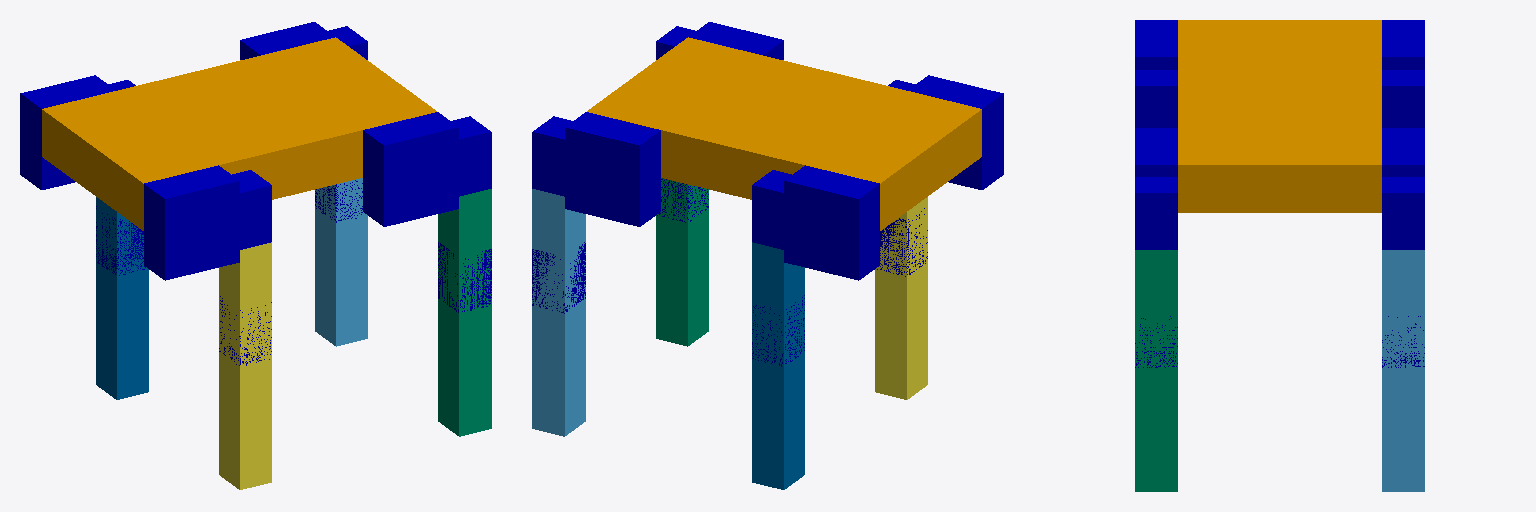
URDF robot description (ker):
<?xml version="1.0" ?>
<!-- =================================================================================== -->
<!-- |    This document was autogenerated by xacro from ker2.urdf.xacro                | -->
<!-- |    EDITING THIS FILE BY HAND IS NOT RECOMMENDED                                 | -->
<!-- =================================================================================== -->
<robot name="ker" xmlns:xacro="http://www.ros.org/wiki/xacro">
  <!--TRANSMISSION-->
  <!--DEFAULT INERTIAL PARAMETERS-->
  <!--JOINT OPTION PRESETS-->
  <!--MOTOR (CORONA)-->
  <!--MOTOR (DYNAMIXEL)-->
  <!--HUMERUS-->
  <!--FEMUR-->
  <!--RADIUS-->
  <!--TIBULA-->
  <!--BODY-->
  <link name="body">
    <inertial>
      <mass value="10"/>
      <inertia ixx="1.0" ixy="0.0" ixz="0.0" iyy="1.0" iyz="0.0" izz="1.0"/>
    </inertial>
    <collision>
      <origin rpy="0 0 0" xyz="0 0 0.0"/>
      <geometry>
        <box size="0.2 0.12 0.031"/>
      </geometry>
    </collision>
    <visual>
      <origin rpy="0 0 0" xyz="0 0 0.0"/>
      <geometry>
        <box size="0.2 0.12 0.031"/>
      </geometry>
    </visual>
  </link>
  <!--EXECUTE MACROS-->
  <link name="big_motor_1">
    <inertial>
      <mass value="0.5"/>
      <inertia ixx="1.0" ixy="0.0" ixz="0.0" iyy="1.0" iyz="0.0" izz="1.0"/>
    </inertial>
    <visual>
      <geometry>
        <box size="0.051 0.025 0.053"/>
      </geometry>
      <origin rpy="0 0 0" xyz="0 0 0"/>
      <material name="blue">
        <color rgba="0 0 .8 1"/>
      </material>
    </visual>
    <collision>
      <geometry>
        <box size="0.051 0.025 0.053"/>
      </geometry>
      <origin rpy="0 0 0" xyz="0 0 0"/>
    </collision>
  </link>
  <joint name="big_motor_1_joint" type="fixed">
    <parent link="body"/>
    <child link="big_motor_1"/>
    <origin rpy="0 0 0" xyz="0.0745 0.0725 -0.011"/>
  </joint>
  <link name="big_motor_2">
    <inertial>
      <mass value="0.5"/>
      <inertia ixx="1.0" ixy="0.0" ixz="0.0" iyy="1.0" iyz="0.0" izz="1.0"/>
    </inertial>
    <visual>
      <geometry>
        <box size="0.051 0.025 0.053"/>
      </geometry>
      <origin rpy="0 0 0" xyz="0 0 0"/>
      <material name="blue">
        <color rgba="0 0 .8 1"/>
      </material>
    </visual>
    <collision>
      <geometry>
        <box size="0.051 0.025 0.053"/>
      </geometry>
      <origin rpy="0 0 0" xyz="0 0 0"/>
    </collision>
  </link>
  <joint name="big_motor_2_joint" type="fixed">
    <parent link="body"/>
    <child link="big_motor_2"/>
    <origin rpy="0 0 0" xyz="0.0745 -0.0725 -0.011"/>
  </joint>
  <link name="big_motor_3">
    <inertial>
      <mass value="0.5"/>
      <inertia ixx="1.0" ixy="0.0" ixz="0.0" iyy="1.0" iyz="0.0" izz="1.0"/>
    </inertial>
    <visual>
      <geometry>
        <box size="0.051 0.025 0.053"/>
      </geometry>
      <origin rpy="0 0 0" xyz="0 0 0"/>
      <material name="blue">
        <color rgba="0 0 .8 1"/>
      </material>
    </visual>
    <collision>
      <geometry>
        <box size="0.051 0.025 0.053"/>
      </geometry>
      <origin rpy="0 0 0" xyz="0 0 0"/>
    </collision>
  </link>
  <joint name="big_motor_3_joint" type="fixed">
    <parent link="body"/>
    <child link="big_motor_3"/>
    <origin rpy="0 0 0" xyz="-0.0745 -0.0725 -0.011"/>
  </joint>
  <link name="big_motor_4">
    <inertial>
      <mass value="0.5"/>
      <inertia ixx="1.0" ixy="0.0" ixz="0.0" iyy="1.0" iyz="0.0" izz="1.0"/>
    </inertial>
    <visual>
      <geometry>
        <box size="0.051 0.025 0.053"/>
      </geometry>
      <origin rpy="0 0 0" xyz="0 0 0"/>
      <material name="blue">
        <color rgba="0 0 .8 1"/>
      </material>
    </visual>
    <collision>
      <geometry>
        <box size="0.051 0.025 0.053"/>
      </geometry>
      <origin rpy="0 0 0" xyz="0 0 0"/>
    </collision>
  </link>
  <joint name="big_motor_4_joint" type="fixed">
    <parent link="body"/>
    <child link="big_motor_4"/>
    <origin rpy="0 0 0" xyz="-0.0745 0.0725 -0.011"/>
  </joint>
  <link name="motor_1">
    <inertial>
      <mass value="0.5"/>
      <inertia ixx="1.0" ixy="0.0" ixz="0.0" iyy="1.0" iyz="0.0" izz="1.0"/>
    </inertial>
    <visual>
      <geometry>
        <box size="0.022 0.025 0.037"/>
      </geometry>
      <origin rpy="0 0 0" xyz="0 0 0"/>
      <material name="blue">
        <color rgba="0 0 .8 1"/>
      </material>
    </visual>
    <collision>
      <geometry>
        <box size="0.022 0.025 0.037"/>
      </geometry>
      <origin rpy="0 0 0" xyz="0 0 0"/>
    </collision>
  </link>
  <joint name="motor_1_joint" type="revolute">
    <parent link="big_motor_1"/>
    <child link="motor_1"/>
    <origin rpy="0 0 0" xyz="0.0365 0 0"/>
    <axis xyz="1 0 0"/>
    <dynamics damping="0.1" friction="0.1"/>
    <limit effort="3.0" lower="0.0" upper="0.0" velocity="3.0"/>
  </joint>
  <transmission name="motor_1_joint_transmission">
    <type>transmission_interface/SimpleTransmission</type>
    <joint name="motor_1_joint">
      <hardwareInterface>VelocityJointInterface</hardwareInterface>
    </joint>
    <actuator name="motor_1_joint_motor">
      <mechanicalReduction>1</mechanicalReduction>
    </actuator>
  </transmission>
  <link name="motor_2">
    <inertial>
      <mass value="0.5"/>
      <inertia ixx="1.0" ixy="0.0" ixz="0.0" iyy="1.0" iyz="0.0" izz="1.0"/>
    </inertial>
    <visual>
      <geometry>
        <box size="0.022 0.025 0.037"/>
      </geometry>
      <origin rpy="0 0 0" xyz="0 0 0"/>
      <material name="blue">
        <color rgba="0 0 .8 1"/>
      </material>
    </visual>
    <collision>
      <geometry>
        <box size="0.022 0.025 0.037"/>
      </geometry>
      <origin rpy="0 0 0" xyz="0 0 0"/>
    </collision>
  </link>
  <joint name="motor_2_joint" type="revolute">
    <parent link="big_motor_2"/>
    <child link="motor_2"/>
    <origin rpy="0 0 0" xyz="0.0365 0 0"/>
    <axis xyz="1 0 0"/>
    <dynamics damping="0.1" friction="0.1"/>
    <limit effort="3.0" lower="0.0" upper="0.0" velocity="3.0"/>
  </joint>
  <transmission name="motor_2_joint_transmission">
    <type>transmission_interface/SimpleTransmission</type>
    <joint name="motor_2_joint">
      <hardwareInterface>VelocityJointInterface</hardwareInterface>
    </joint>
    <actuator name="motor_2_joint_motor">
      <mechanicalReduction>1</mechanicalReduction>
    </actuator>
  </transmission>
  <link name="motor_3">
    <inertial>
      <mass value="0.5"/>
      <inertia ixx="1.0" ixy="0.0" ixz="0.0" iyy="1.0" iyz="0.0" izz="1.0"/>
    </inertial>
    <visual>
      <geometry>
        <box size="0.022 0.025 0.037"/>
      </geometry>
      <origin rpy="0 0 0" xyz="0 0 0"/>
      <material name="blue">
        <color rgba="0 0 .8 1"/>
      </material>
    </visual>
    <collision>
      <geometry>
        <box size="0.022 0.025 0.037"/>
      </geometry>
      <origin rpy="0 0 0" xyz="0 0 0"/>
    </collision>
  </link>
  <joint name="motor_3_joint" type="revolute">
    <parent link="big_motor_3"/>
    <child link="motor_3"/>
    <origin rpy="0 0 0" xyz="0.0365 0 0"/>
    <axis xyz="1 0 0"/>
    <dynamics damping="0.1" friction="0.1"/>
    <limit effort="3.0" lower="0.0" upper="0.0" velocity="3.0"/>
  </joint>
  <transmission name="motor_3_joint_transmission">
    <type>transmission_interface/SimpleTransmission</type>
    <joint name="motor_3_joint">
      <hardwareInterface>VelocityJointInterface</hardwareInterface>
    </joint>
    <actuator name="motor_3_joint_motor">
      <mechanicalReduction>1</mechanicalReduction>
    </actuator>
  </transmission>
  <link name="motor_4">
    <inertial>
      <mass value="0.5"/>
      <inertia ixx="1.0" ixy="0.0" ixz="0.0" iyy="1.0" iyz="0.0" izz="1.0"/>
    </inertial>
    <visual>
      <geometry>
        <box size="0.022 0.025 0.037"/>
      </geometry>
      <origin rpy="0 0 0" xyz="0 0 0"/>
      <material name="blue">
        <color rgba="0 0 .8 1"/>
      </material>
    </visual>
    <collision>
      <geometry>
        <box size="0.022 0.025 0.037"/>
      </geometry>
      <origin rpy="0 0 0" xyz="0 0 0"/>
    </collision>
  </link>
  <joint name="motor_4_joint" type="revolute">
    <parent link="big_motor_4"/>
    <child link="motor_4"/>
    <origin rpy="0 0 0" xyz="0.0365 0 0"/>
    <axis xyz="1 0 0"/>
    <dynamics damping="0.1" friction="0.1"/>
    <limit effort="3.0" lower="0.0" upper="0.0" velocity="3.0"/>
  </joint>
  <transmission name="motor_4_joint_transmission">
    <type>transmission_interface/SimpleTransmission</type>
    <joint name="motor_4_joint">
      <hardwareInterface>VelocityJointInterface</hardwareInterface>
    </joint>
    <actuator name="motor_4_joint_motor">
      <mechanicalReduction>1</mechanicalReduction>
    </actuator>
  </transmission>
  <link name="humerus_1">
    <inertial>
      <mass value="2"/>
      <inertia ixx="1.0" ixy="0.0" ixz="0.0" iyy="1.0" iyz="0.0" izz="1.0"/>
    </inertial>
    <collision>
      <origin rpy="0 0 0" xyz="0 0 -0.0565"/>
      <geometry>
        <box size="0.022 0.025 0.076"/>
      </geometry>
    </collision>
    <visual>
      <origin rpy="0 0 0" xyz="0 0 -0.0565"/>
      <geometry>
        <box size="0.022 0.025 0.076"/>
      </geometry>
    </visual>
  </link>
  <joint name="humerus_1_joint" type="revolute">
    <parent link="motor_1"/>
    <child link="humerus_1"/>
    <origin rpy="0 0 0" xyz="0 0 0"/>
    <axis xyz="0 1 0"/>
    <dynamics damping="0.1" friction="0.1"/>
    <limit effort="3.0" lower="0.0" upper="0.0" velocity="3.0"/>
  </joint>
  <link name="humerus_2">
    <inertial>
      <mass value="2"/>
      <inertia ixx="1.0" ixy="0.0" ixz="0.0" iyy="1.0" iyz="0.0" izz="1.0"/>
    </inertial>
    <collision>
      <origin rpy="0 0 0" xyz="0 0 -0.0565"/>
      <geometry>
        <box size="0.022 0.025 0.076"/>
      </geometry>
    </collision>
    <visual>
      <origin rpy="0 0 0" xyz="0 0 -0.0565"/>
      <geometry>
        <box size="0.022 0.025 0.076"/>
      </geometry>
    </visual>
  </link>
  <joint name="humerus_2_joint" type="revolute">
    <parent link="motor_2"/>
    <child link="humerus_2"/>
    <origin rpy="0 0 0" xyz="0 0 0"/>
    <axis xyz="0 -1 0"/>
    <dynamics damping="0.1" friction="0.1"/>
    <limit effort="3.0" lower="0.0" upper="0.0" velocity="3.0"/>
  </joint>
  <link name="femur_2">
    <inertial>
      <mass value="2"/>
      <inertia ixx="1.0" ixy="0.0" ixz="0.0" iyy="1.0" iyz="0.0" izz="1.0"/>
    </inertial>
    <collision>
      <origin rpy="0 0 0" xyz="0 0 -0.0565"/>
      <geometry>
        <box size="0.022 0.025 0.076"/>
      </geometry>
    </collision>
    <visual>
      <origin rpy="0 0 0" xyz="0 0 -0.0565"/>
      <geometry>
        <box size="0.022 0.025 0.076"/>
      </geometry>
    </visual>
  </link>
  <joint name="femur_2_joint" type="revolute">
    <parent link="motor_3"/>
    <child link="femur_2"/>
    <origin rpy="0 0 0" xyz="0 0 0"/>
    <axis xyz="0 -1 0"/>
    <dynamics damping="0.1" friction="0.1"/>
    <limit effort="3.0" lower="0.0" upper="0.0" velocity="3.0"/>
  </joint>
  <link name="femur_1">
    <inertial>
      <mass value="2"/>
      <inertia ixx="1.0" ixy="0.0" ixz="0.0" iyy="1.0" iyz="0.0" izz="1.0"/>
    </inertial>
    <collision>
      <origin rpy="0 0 0" xyz="0 0 -0.0565"/>
      <geometry>
        <box size="0.022 0.025 0.076"/>
      </geometry>
    </collision>
    <visual>
      <origin rpy="0 0 0" xyz="0 0 -0.0565"/>
      <geometry>
        <box size="0.022 0.025 0.076"/>
      </geometry>
    </visual>
  </link>
  <joint name="femur_1_joint" type="revolute">
    <parent link="motor_4"/>
    <child link="femur_1"/>
    <origin rpy="0 0 0" xyz="0 0 0"/>
    <axis xyz="0 1 0"/>
    <dynamics damping="0.1" friction="0.1"/>
    <limit effort="3.0" lower="0.0" upper="0.0" velocity="3.0"/>
  </joint>
  <link name="motor_1b">
    <inertial>
      <mass value="0.5"/>
      <inertia ixx="1.0" ixy="0.0" ixz="0.0" iyy="1.0" iyz="0.0" izz="1.0"/>
    </inertial>
    <visual>
      <geometry>
        <box size="0.022 0.025 0.037"/>
      </geometry>
      <origin rpy="0 0 0" xyz="0 0 0"/>
      <material name="blue">
        <color rgba="0 0 .8 1"/>
      </material>
    </visual>
    <collision>
      <geometry>
        <box size="0.022 0.025 0.037"/>
      </geometry>
      <origin rpy="0 0 0" xyz="0 0 0"/>
    </collision>
  </link>
  <joint name="motor_1b_joint" type="fixed">
    <parent link="humerus_1"/>
    <child link="motor_1b"/>
    <origin rpy="0 0 0" xyz="0 0 -0.076"/>
  </joint>
  <transmission name="motor_1b_joint_transmission">
    <type>transmission_interface/SimpleTransmission</type>
    <joint name="motor_1b_joint">
      <hardwareInterface>VelocityJointInterface</hardwareInterface>
    </joint>
    <actuator name="motor_1b_joint_motor">
      <mechanicalReduction>1</mechanicalReduction>
    </actuator>
  </transmission>
  <link name="motor_2b">
    <inertial>
      <mass value="0.5"/>
      <inertia ixx="1.0" ixy="0.0" ixz="0.0" iyy="1.0" iyz="0.0" izz="1.0"/>
    </inertial>
    <visual>
      <geometry>
        <box size="0.022 0.025 0.037"/>
      </geometry>
      <origin rpy="0 0 0" xyz="0 0 0"/>
      <material name="blue">
        <color rgba="0 0 .8 1"/>
      </material>
    </visual>
    <collision>
      <geometry>
        <box size="0.022 0.025 0.037"/>
      </geometry>
      <origin rpy="0 0 0" xyz="0 0 0"/>
    </collision>
  </link>
  <joint name="motor_2b_joint" type="fixed">
    <parent link="humerus_2"/>
    <child link="motor_2b"/>
    <origin rpy="0 0 0" xyz="0 0 -0.076"/>
  </joint>
  <transmission name="motor_2b_joint_transmission">
    <type>transmission_interface/SimpleTransmission</type>
    <joint name="motor_2b_joint">
      <hardwareInterface>VelocityJointInterface</hardwareInterface>
    </joint>
    <actuator name="motor_2b_joint_motor">
      <mechanicalReduction>1</mechanicalReduction>
    </actuator>
  </transmission>
  <link name="motor_3b">
    <inertial>
      <mass value="0.5"/>
      <inertia ixx="1.0" ixy="0.0" ixz="0.0" iyy="1.0" iyz="0.0" izz="1.0"/>
    </inertial>
    <visual>
      <geometry>
        <box size="0.022 0.025 0.037"/>
      </geometry>
      <origin rpy="0 0 0" xyz="0 0 0"/>
      <material name="blue">
        <color rgba="0 0 .8 1"/>
      </material>
    </visual>
    <collision>
      <geometry>
        <box size="0.022 0.025 0.037"/>
      </geometry>
      <origin rpy="0 0 0" xyz="0 0 0"/>
    </collision>
  </link>
  <joint name="motor_3b_joint" type="fixed">
    <parent link="femur_2"/>
    <child link="motor_3b"/>
    <origin rpy="0 0 0" xyz="0 0 -0.076"/>
  </joint>
  <transmission name="motor_3b_joint_transmission">
    <type>transmission_interface/SimpleTransmission</type>
    <joint name="motor_3b_joint">
      <hardwareInterface>VelocityJointInterface</hardwareInterface>
    </joint>
    <actuator name="motor_3b_joint_motor">
      <mechanicalReduction>1</mechanicalReduction>
    </actuator>
  </transmission>
  <link name="motor_4b">
    <inertial>
      <mass value="0.5"/>
      <inertia ixx="1.0" ixy="0.0" ixz="0.0" iyy="1.0" iyz="0.0" izz="1.0"/>
    </inertial>
    <visual>
      <geometry>
        <box size="0.022 0.025 0.037"/>
      </geometry>
      <origin rpy="0 0 0" xyz="0 0 0"/>
      <material name="blue">
        <color rgba="0 0 .8 1"/>
      </material>
    </visual>
    <collision>
      <geometry>
        <box size="0.022 0.025 0.037"/>
      </geometry>
      <origin rpy="0 0 0" xyz="0 0 0"/>
    </collision>
  </link>
  <joint name="motor_4b_joint" type="fixed">
    <parent link="femur_1"/>
    <child link="motor_4b"/>
    <origin rpy="0 0 0" xyz="0 0 -0.076"/>
  </joint>
  <transmission name="motor_4b_joint_transmission">
    <type>transmission_interface/SimpleTransmission</type>
    <joint name="motor_4b_joint">
      <hardwareInterface>VelocityJointInterface</hardwareInterface>
    </joint>
    <actuator name="motor_4b_joint_motor">
      <mechanicalReduction>1</mechanicalReduction>
    </actuator>
  </transmission>
  <link name="radius_1">
    <inertial>
      <mass value="2"/>
      <inertia ixx="1.0" ixy="0.0" ixz="0.0" iyy="1.0" iyz="0.0" izz="1.0"/>
    </inertial>
    <collision>
      <origin rpy="0 0 0" xyz="0 0 -0.0565"/>
      <geometry>
        <box size="0.022 0.025 0.08"/>
      </geometry>
    </collision>
    <visual>
      <origin rpy="0 0 0" xyz="0 0 -0.0585"/>
      <geometry>
        <box size="0.022 0.025 0.08"/>
      </geometry>
    </visual>
  </link>
  <joint name="radius_1_joint" type="revolute">
    <parent link="motor_1b"/>
    <child link="radius_1"/>
    <origin rpy="0 0 0" xyz="0 0 0"/>
    <axis xyz="0 1 0"/>
    <dynamics damping="0.1" friction="0.1"/>
    <limit effort="3.0" lower="0.0" upper="0.0" velocity="3.0"/>
  </joint>
  <link name="radius_2">
    <inertial>
      <mass value="2"/>
      <inertia ixx="1.0" ixy="0.0" ixz="0.0" iyy="1.0" iyz="0.0" izz="1.0"/>
    </inertial>
    <collision>
      <origin rpy="0 0 0" xyz="0 0 -0.0565"/>
      <geometry>
        <box size="0.022 0.025 0.08"/>
      </geometry>
    </collision>
    <visual>
      <origin rpy="0 0 0" xyz="0 0 -0.0585"/>
      <geometry>
        <box size="0.022 0.025 0.08"/>
      </geometry>
    </visual>
  </link>
  <joint name="radius_2_joint" type="revolute">
    <parent link="motor_2b"/>
    <child link="radius_2"/>
    <origin rpy="0 0 0" xyz="0 0 0"/>
    <axis xyz="0 -1 0"/>
    <dynamics damping="0.1" friction="0.1"/>
    <limit effort="3.0" lower="0.0" upper="0.0" velocity="3.0"/>
  </joint>
  <link name="tibula_2">
    <inertial>
      <mass value="2"/>
      <inertia ixx="1.0" ixy="0.0" ixz="0.0" iyy="1.0" iyz="0.0" izz="1.0"/>
    </inertial>
    <collision>
      <origin rpy="0 0 0" xyz="0 0 -0.0585"/>
      <geometry>
        <box size="0.022 0.025 0.08"/>
      </geometry>
    </collision>
    <visual>
      <origin rpy="0 0 0" xyz="0 0 -0.0585"/>
      <geometry>
        <box size="0.022 0.025 0.08"/>
      </geometry>
    </visual>
  </link>
  <joint name="tibula_2_joint" type="revolute">
    <parent link="motor_3b"/>
    <child link="tibula_2"/>
    <origin rpy="0 0 0" xyz="0 0 0"/>
    <axis xyz="0 -1 0"/>
    <dynamics damping="0.1" friction="0.1"/>
    <limit effort="3.0" lower="0.0" upper="0.0" velocity="3.0"/>
  </joint>
  <link name="tibula_1">
    <inertial>
      <mass value="2"/>
      <inertia ixx="1.0" ixy="0.0" ixz="0.0" iyy="1.0" iyz="0.0" izz="1.0"/>
    </inertial>
    <collision>
      <origin rpy="0 0 0" xyz="0 0 -0.0585"/>
      <geometry>
        <box size="0.022 0.025 0.08"/>
      </geometry>
    </collision>
    <visual>
      <origin rpy="0 0 0" xyz="0 0 -0.0585"/>
      <geometry>
        <box size="0.022 0.025 0.08"/>
      </geometry>
    </visual>
  </link>
  <joint name="tibula_1_joint" type="revolute">
    <parent link="motor_4b"/>
    <child link="tibula_1"/>
    <origin rpy="0 0 0" xyz="0 0 0"/>
    <axis xyz="0 1 0"/>
    <dynamics damping="0.1" friction="0.1"/>
    <limit effort="3.0" lower="0.0" upper="0.0" velocity="3.0"/>
  </joint>
  <gazebo>
    <plugin filename="libgazebo_ros_control.so" name="gazebo_ros_control">
      <robotParam>robot_description</robotParam>
    </plugin>
  </gazebo>
</robot>

--- What the picture shows (computed from the rendered views, not written in the file) ---
3 views of the same robot in one strip: view 1: azimuth 30°, elevation 25°; view 2: azimuth 150°, elevation 25°; view 3: azimuth 270°, elevation 25° (orthographic).
Robot: ker — 21 links, 20 joints (12 revolute, 8 fixed); root link body; default pose: all joints at 0.
Visible links, largest first — view 1: body, big_motor_2, big_motor_3, radius_2, tibula_1, tibula_2, radius_1, femur_2, humerus_2, big_motor_4, motor_2, motor_3 (+6 smaller); view 2: body, big_motor_1, big_motor_4, radius_1, tibula_2, tibula_1, radius_2, femur_1, humerus_1, big_motor_3, motor_1, motor_4 (+6 smaller); view 3: body, radius_1, radius_2, humerus_1, humerus_2, motor_1, motor_2, motor_3, motor_4, big_motor_3, big_motor_4, big_motor_1 (+1 smaller).
Link boxes in pixels (left/top/right/bottom): body: left=42, top=37, right=436, bottom=230; big_motor_2: left=363, top=112, right=458, bottom=226; big_motor_3: left=144, top=165, right=239, bottom=280; radius_2: left=438, top=299, right=491, bottom=436; tibula_1: left=96, top=262, right=148, bottom=399; tibula_2: left=219, top=352, right=271, bottom=489; radius_1: left=315, top=209, right=367, bottom=346; femur_2: left=219, top=242, right=271, bottom=366; humerus_2: left=438, top=189, right=491, bottom=313; big_motor_4: left=20, top=75, right=115, bottom=189; motor_2: left=451, top=116, right=491, bottom=196; motor_3: left=232, top=170, right=271, bottom=249; body: left=587, top=37, right=981, bottom=230; big_motor_1: left=565, top=112, right=660, bottom=226; big_motor_4: left=784, top=165, right=879, bottom=280; radius_1: left=532, top=299, right=585, bottom=436; tibula_2: left=875, top=262, right=927, bottom=399; tibula_1: left=752, top=352, right=804, bottom=489; radius_2: left=656, top=209, right=708, bottom=346; femur_1: left=752, top=242, right=804, bottom=366; humerus_1: left=532, top=189, right=585, bottom=312; big_motor_3: left=908, top=75, right=1003, bottom=189; motor_1: left=532, top=116, right=572, bottom=196; motor_4: left=752, top=170, right=791, bottom=249; body: left=1178, top=20, right=1381, bottom=212; radius_1: left=1382, top=368, right=1424, bottom=491; radius_2: left=1135, top=368, right=1177, bottom=491; humerus_1: left=1382, top=250, right=1424, bottom=367; humerus_2: left=1135, top=250, right=1177, bottom=367; motor_1: left=1382, top=177, right=1424, bottom=249; motor_2: left=1135, top=177, right=1177, bottom=249; motor_3: left=1135, top=70, right=1177, bottom=127; motor_4: left=1382, top=70, right=1424, bottom=127; big_motor_3: left=1135, top=20, right=1177, bottom=69; big_motor_4: left=1382, top=20, right=1424, bottom=69; big_motor_1: left=1382, top=128, right=1424, bottom=176.
Bounding box of the posed robot: 0.222 × 0.17 × 0.201 m (x, y, z).
Geometry: primitives only (box / cylinder / sphere), no mesh files.
